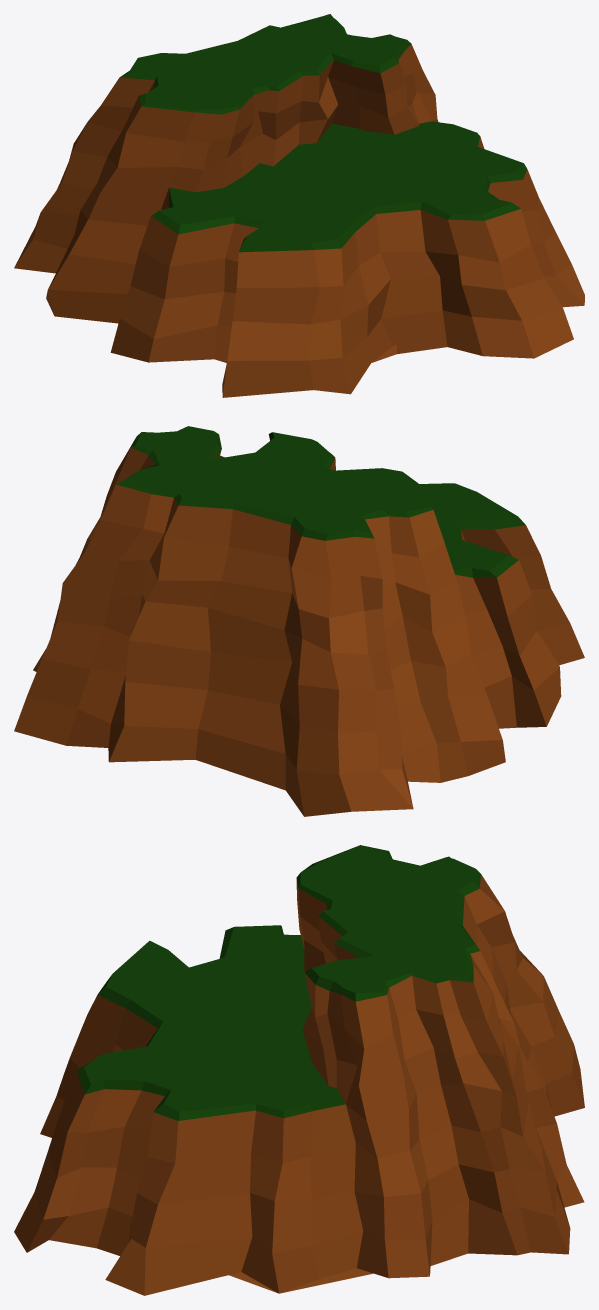
The model's file is Cliff_3.fbx.
3 views of the same model, one above another, from view 1: azimuth 30°, elevation 25°; view 2: azimuth 150°, elevation 25°; view 3: azimuth 270°, elevation 25° (orthographic). The views are drawn at different scales.
Visible parts, largest first — view 1: Cliff_3; view 2: Cliff_3; view 3: Cliff_3.
Boxes of the visible parts, x1,y1,x2,y2 form: Cliff_3: [14, 14, 584, 397]; Cliff_3: [14, 426, 584, 816]; Cliff_3: [14, 845, 584, 1295].
Size of the model in its own units: 6967 by 3355 by 6746.
